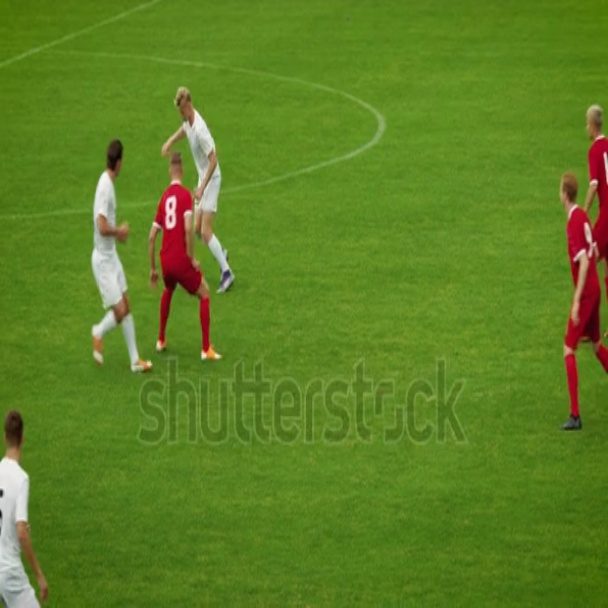ball: (190, 256, 208, 292)
